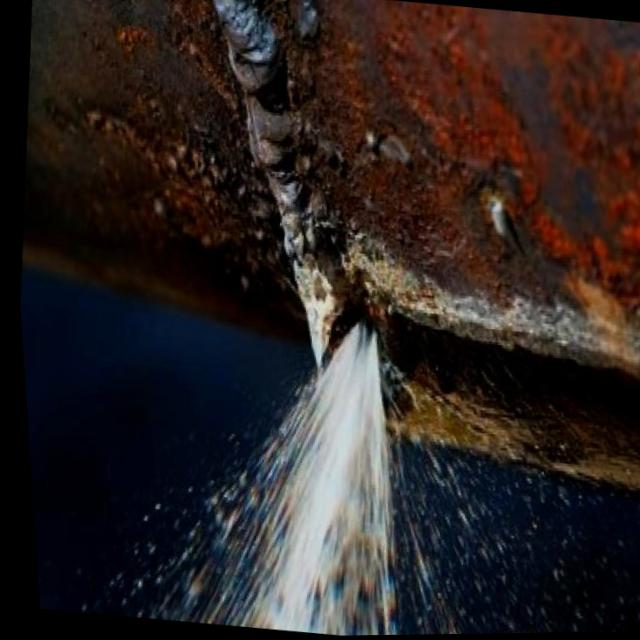leak: (163, 326, 395, 636)
